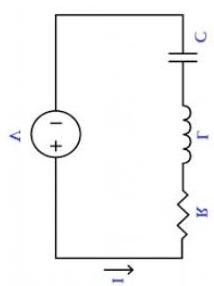Capacitor: (152, 38, 204, 79)
